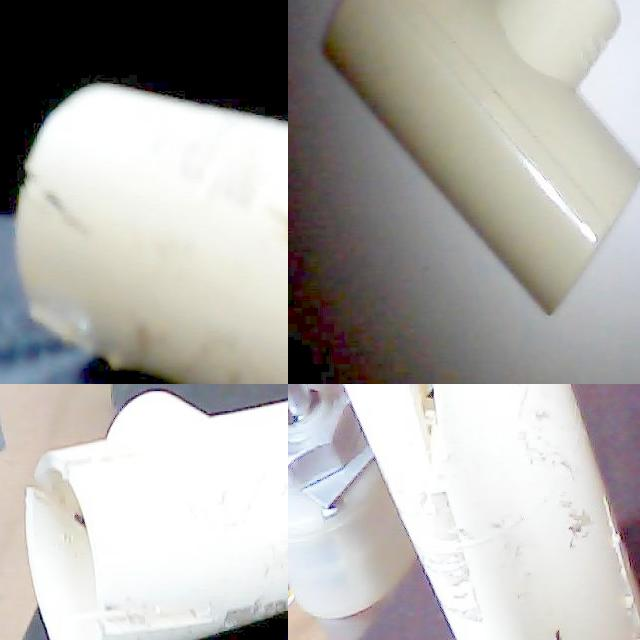Defective: (365, 384, 512, 509), (19, 164, 115, 280), (87, 585, 288, 640), (582, 474, 640, 640), (23, 442, 105, 534), (547, 608, 577, 640)
T Joint: (323, 0, 640, 317), (16, 84, 288, 384), (342, 384, 640, 640), (343, 384, 640, 640), (24, 393, 288, 640)
